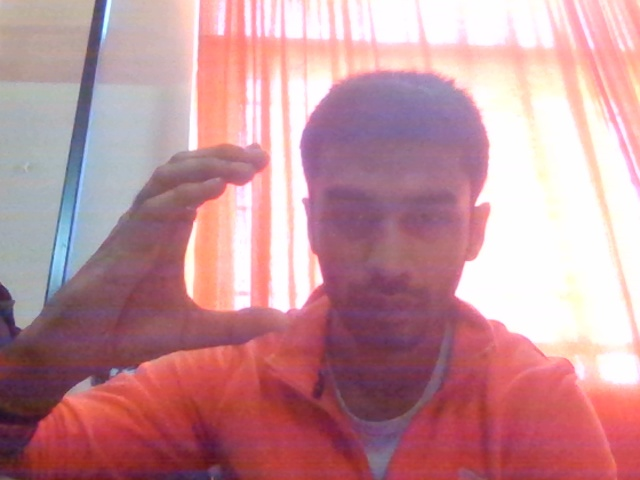C: (51, 110, 327, 459)
